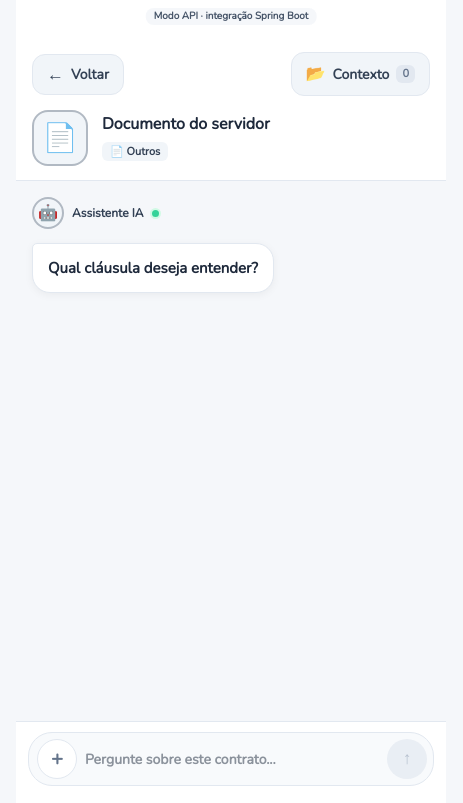
Test: chat API sem roteiro fictício › preserva a pergunta do servidor e falha/retry HTTP sem opções, respostas ou aviso locais
Expected: the text "Qual cláusula deseja entender?" is shown, 48,258 -> 258,278
Type "Minha parcela é R$ 2.000" into the field named "Mensagem sobre o documento" at point(232, 759), box 85,748 -> 379,770
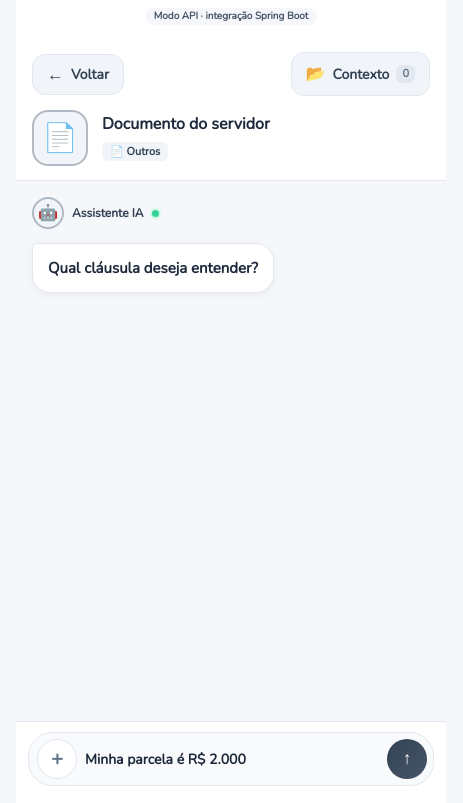
Click the button named "Enviar mensagem" at point(407, 759), box 387,739 -> 427,779
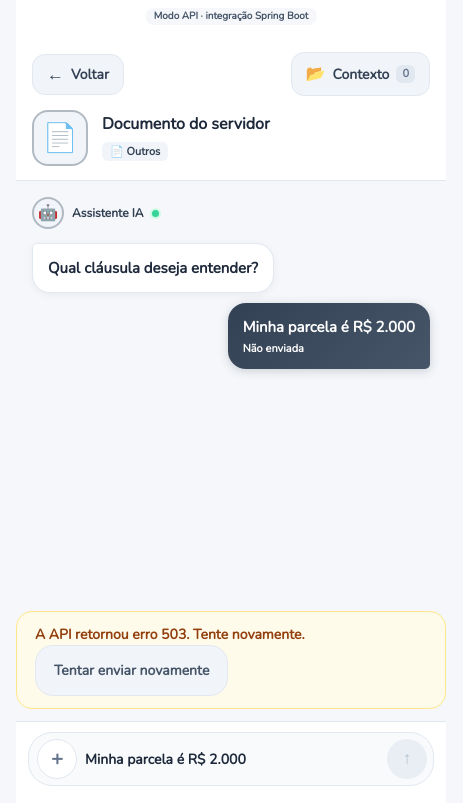
Expected: the message shows "503", 35,625 -> 305,644
Click the button "Tentar enviar novamente" at point(132, 670), box 35,645 -> 228,696
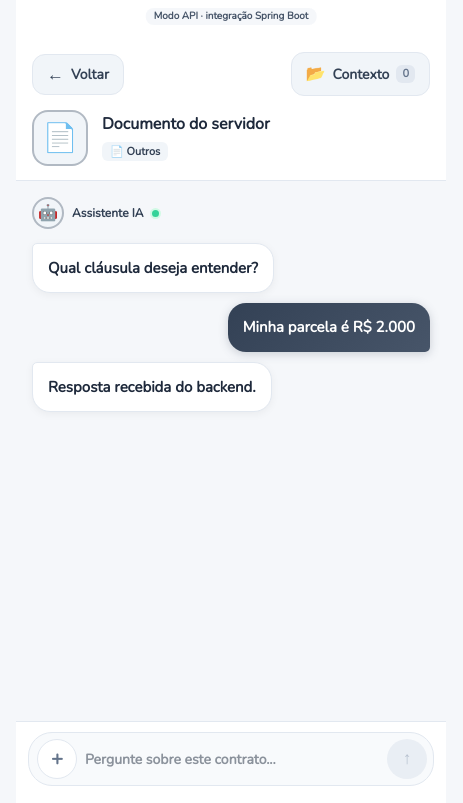
Expected: the text "Resposta recebida do backend." is shown, 48,376 -> 256,396
Expected: the text "Minha parcela é R$ 2.000" is shown once, 243,317 -> 415,337
Expected: the field named "Mensagem sobre o documento" is empty, 85,748 -> 379,770
